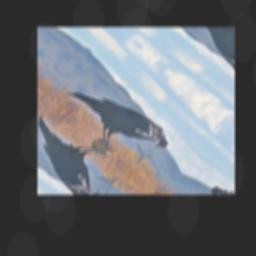Crow: (54, 69, 176, 174)
